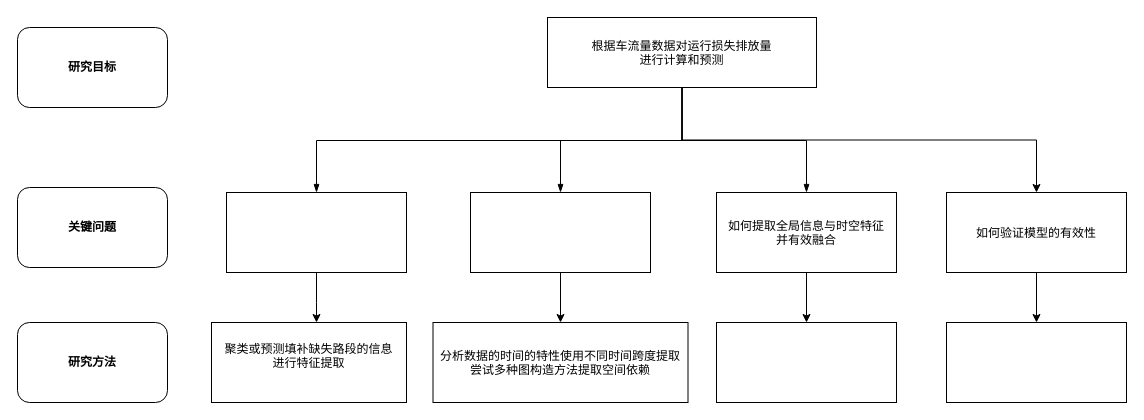
Some shapes in this 1144 by 420 pixel diagram are drawn without their labels. Here are the shapes that lost their labels. From the top down, the centre of each, then its label:
point (316, 232): 数据预处理和多模态特征构建
point (560, 232): 如何提取时空特征
point (806, 362): 用多头注意力机制捕捉 全局信息和长距离依赖
point (1036, 362): 测试loss大小 用实际产生的数据进行测试
